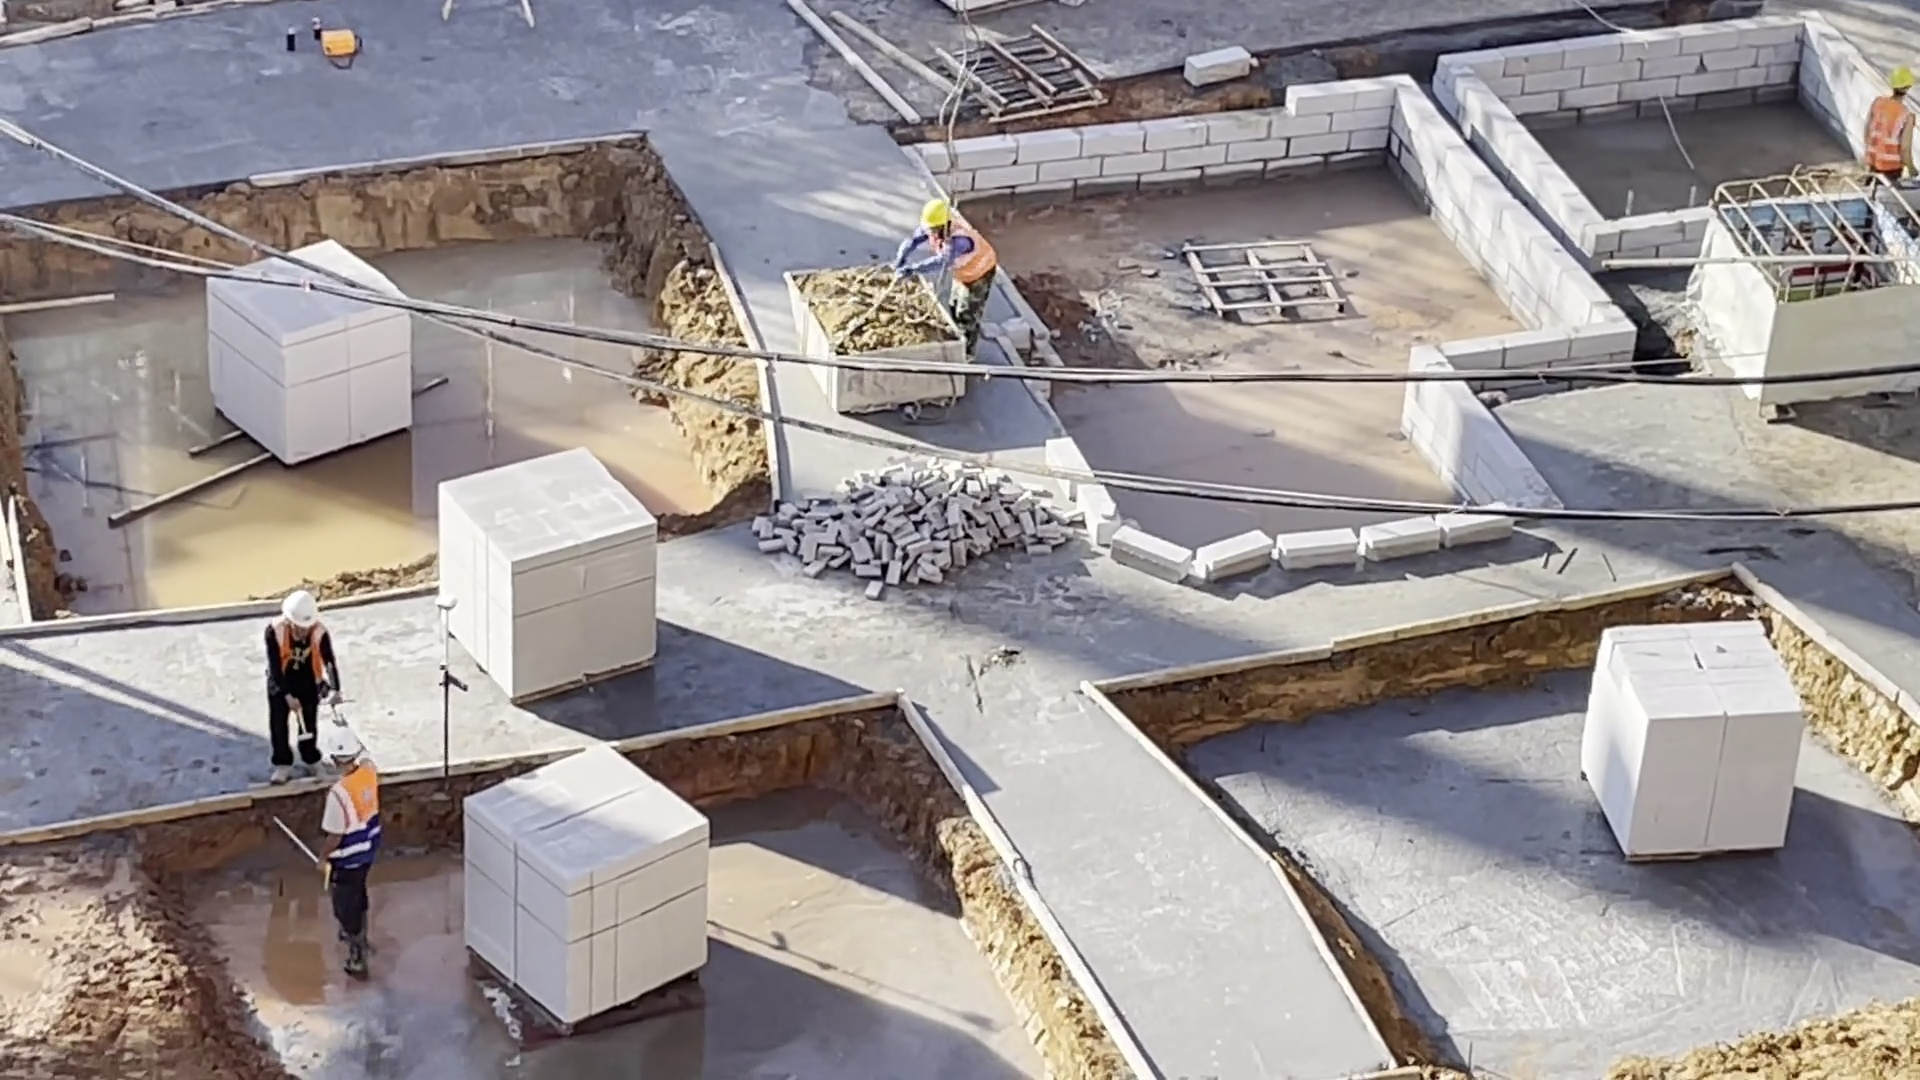brick: (458, 743, 709, 1023), (426, 445, 661, 708), (1569, 611, 1809, 865), (198, 309, 427, 475)
helmet: (279, 589, 323, 634), (914, 196, 955, 233), (326, 728, 364, 755), (1885, 64, 1919, 93)
hopper: (778, 257, 937, 354)
person: (314, 725, 390, 982), (892, 193, 1003, 363), (262, 585, 343, 787), (1861, 56, 1920, 175)
vest: (321, 763, 388, 867), (932, 224, 998, 283), (1867, 99, 1917, 171), (271, 623, 323, 680)
